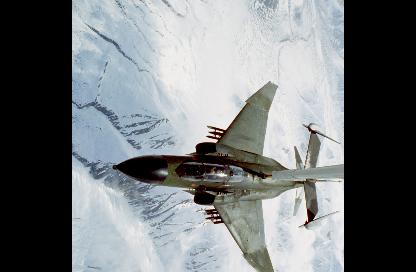F35: (113, 79, 344, 271)
